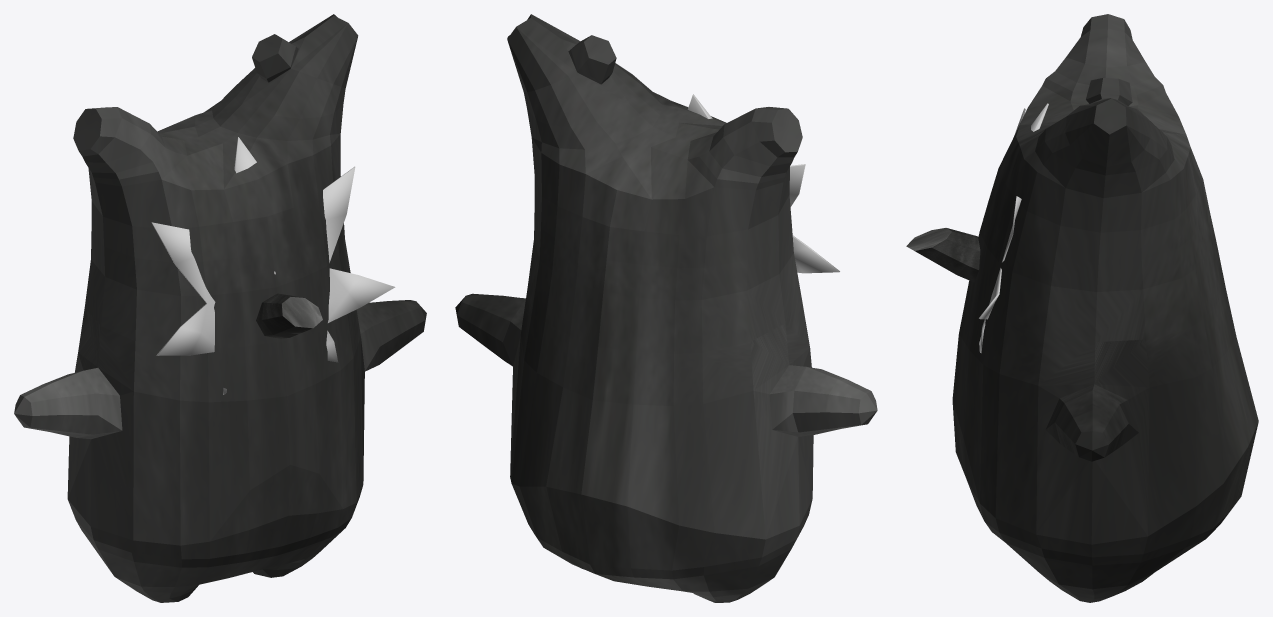
The model's file is frame_0036.obj.
3 renders of one model, left to right at view 1: azimuth 30°, elevation 25°; view 2: azimuth 150°, elevation 25°; view 3: azimuth 270°, elevation 25°, orthographic. The views are drawn at different scales.
Parts seen in each view (by area): view 1: korok, leaf, nose.003_柱体.011; view 2: korok, leaf; view 3: korok, nose.003_柱体.011, leaf.
Boxes of the visible parts, bbox=[...] form: korok: bbox=[14, 14, 426, 602]; leaf: bbox=[151, 137, 395, 394]; nose.003_柱体.011: bbox=[256, 293, 322, 338]; korok: bbox=[455, 14, 877, 602]; leaf: bbox=[687, 94, 839, 273]; korok: bbox=[952, 14, 1258, 602]; nose.003_柱体.011: bbox=[906, 228, 980, 282]; leaf: bbox=[979, 103, 1048, 353].
Size of the model in its own units: 1.82 by 2.25 by 1.34.
